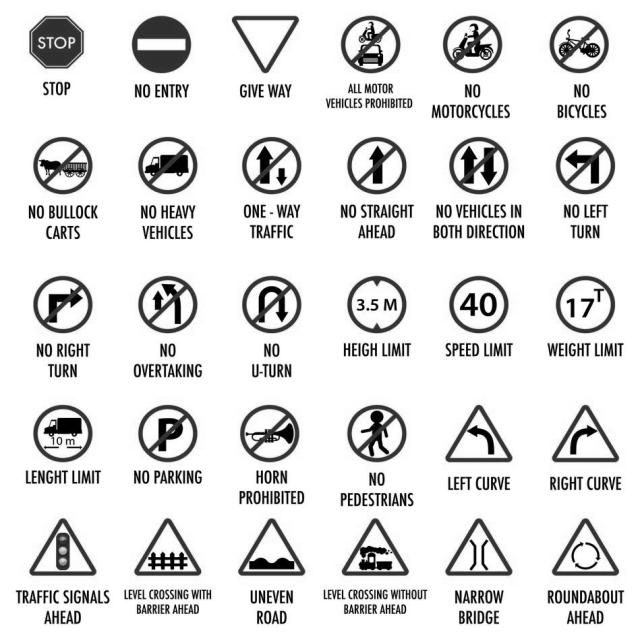danger: (229, 512, 310, 585), (538, 514, 620, 584), (20, 516, 105, 582), (439, 514, 516, 583), (127, 515, 204, 579), (445, 403, 516, 469), (336, 520, 411, 582), (554, 401, 620, 469)
direction_forbidden: (29, 270, 94, 334), (344, 131, 407, 193), (243, 134, 303, 198), (238, 272, 301, 332), (140, 275, 200, 334), (553, 138, 613, 195), (452, 134, 510, 192)
forbidden: (138, 400, 201, 464), (545, 13, 608, 76), (240, 400, 302, 464), (136, 134, 201, 195), (554, 273, 618, 334), (346, 272, 408, 334), (348, 400, 407, 464), (443, 11, 503, 73), (37, 400, 93, 466), (33, 134, 94, 194), (340, 15, 401, 74), (134, 13, 192, 73)
let_go: (232, 12, 301, 71)
speed_40: (448, 274, 508, 336)
